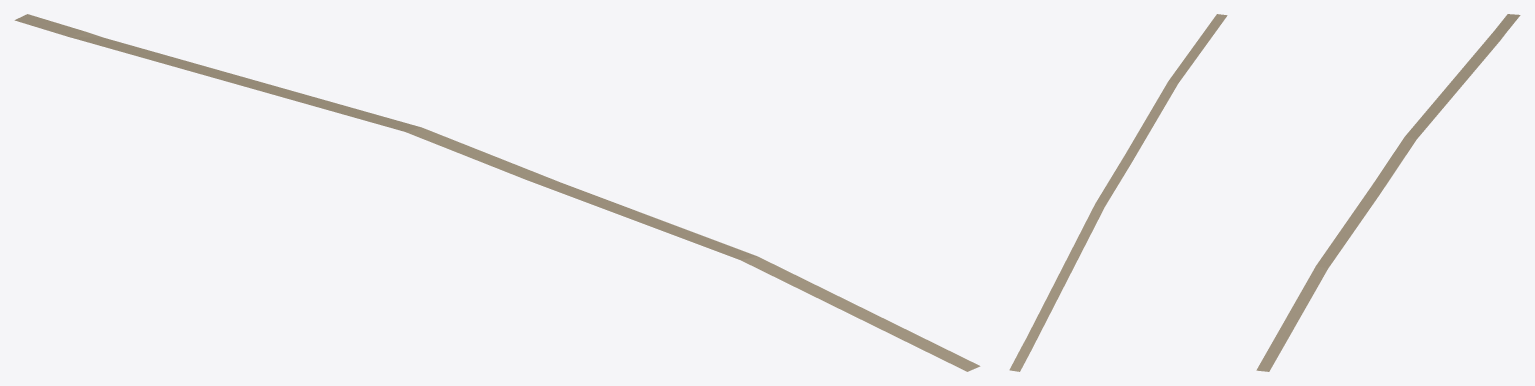
File: farm_-1_16_track.glb
3 renders of one model, left to right at view 1: azimuth 30°, elevation 25°; view 2: azimuth 150°, elevation 25°; view 3: azimuth 330°, elevation 25°, orthographic. The views are drawn at different scales.
Parts seen in each view (by area): view 1: geometry_0; view 2: geometry_0; view 3: geometry_0.
Boxes of the visible parts, bbox=[...] form: geometry_0: bbox=[14, 14, 980, 371]; geometry_0: bbox=[1009, 14, 1227, 371]; geometry_0: bbox=[1256, 14, 1520, 371].
Size of the model in its own units: 63.65 by 13.06 by 228.
